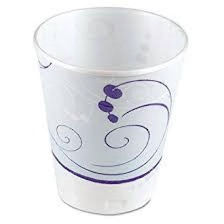paper_cup: (26, 1, 193, 220)
